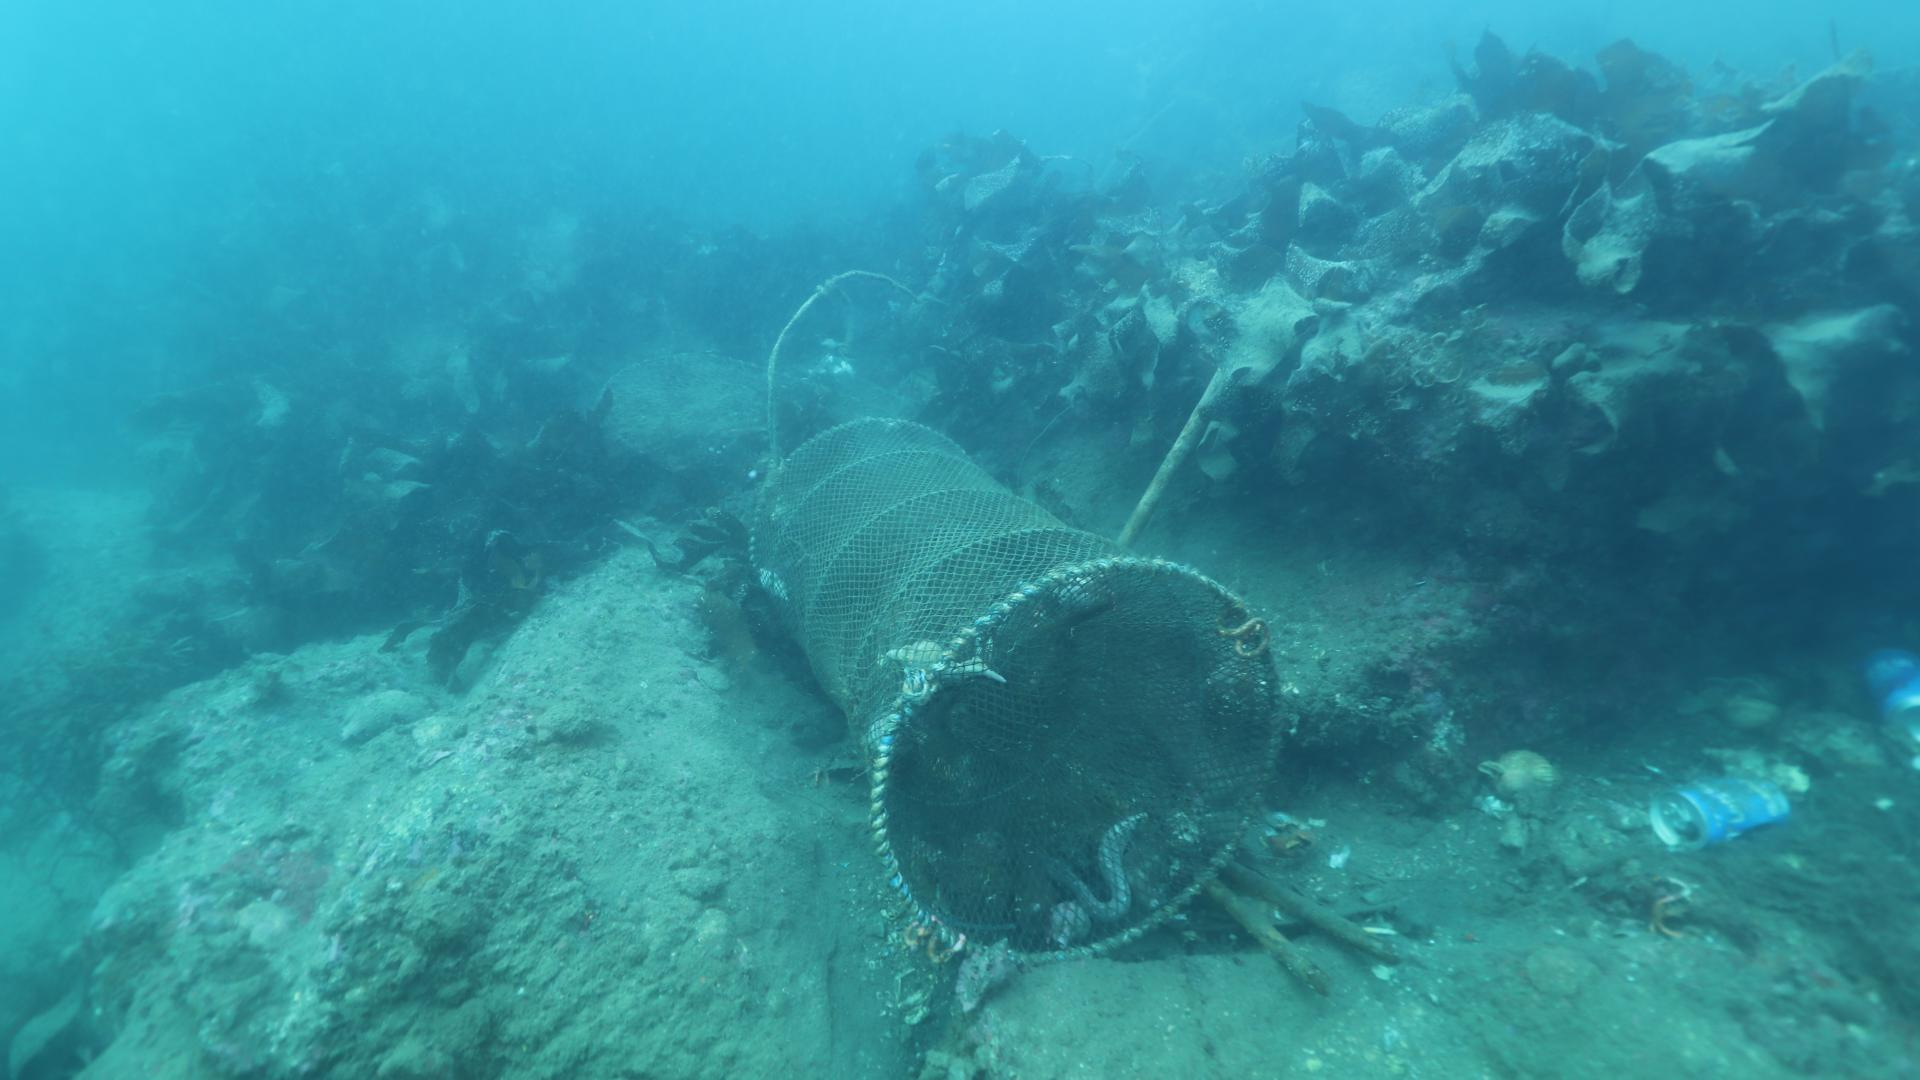bundle of ropes: (766, 268, 947, 465)
circular fish trap: (595, 349, 798, 471)
spring fish trap: (746, 415, 1280, 965)
